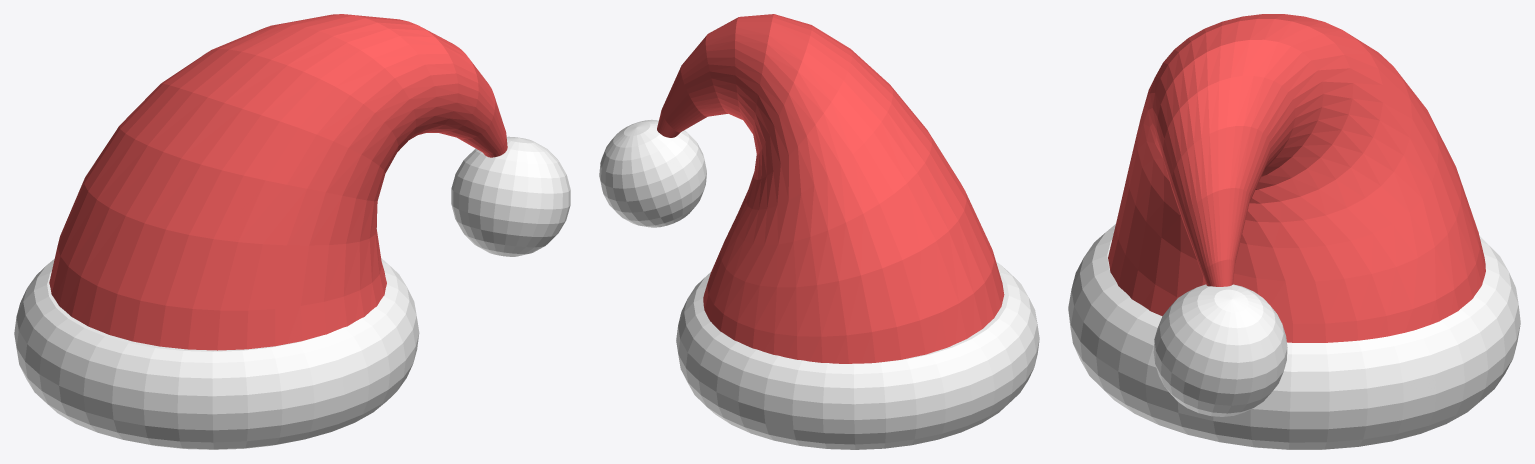
Rendered from uploads_files_2778112_1.fbx.
3 views of the same model, side by side, from view 1: azimuth 30°, elevation 25°; view 2: azimuth 150°, elevation 25°; view 3: azimuth 270°, elevation 25° (orthographic). The views are drawn at different scales.
Visible parts, largest first — view 1: 球体; view 2: 球体; view 3: 球体.
Boxes of the visible parts, left/top/right/bottom form: 球体: left=14, top=14, right=570, bottom=449; 球体: left=599, top=14, right=1039, bottom=449; 球体: left=1068, top=14, right=1520, bottom=449.
Bounding box in the file's own units: 31.65 × 22.12 × 22.72.
